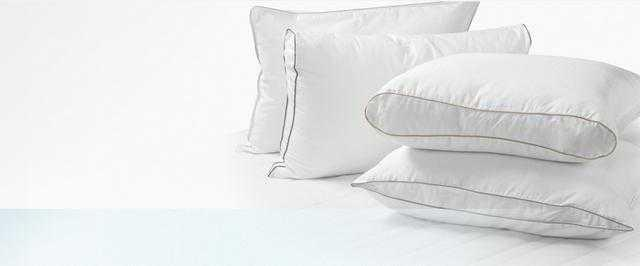pillow: (279, 21, 543, 198), (238, 4, 474, 170), (363, 51, 639, 163), (350, 136, 638, 240)
